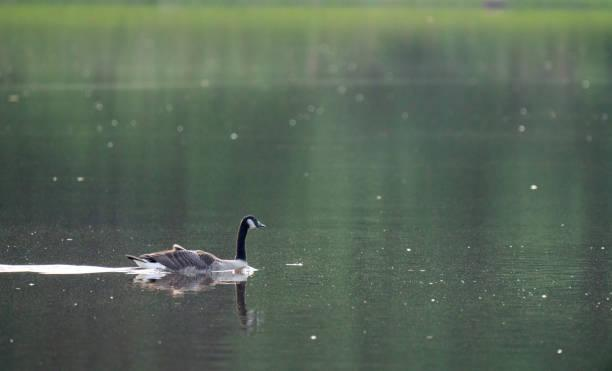Canadian-Goose: (126, 211, 268, 281)
